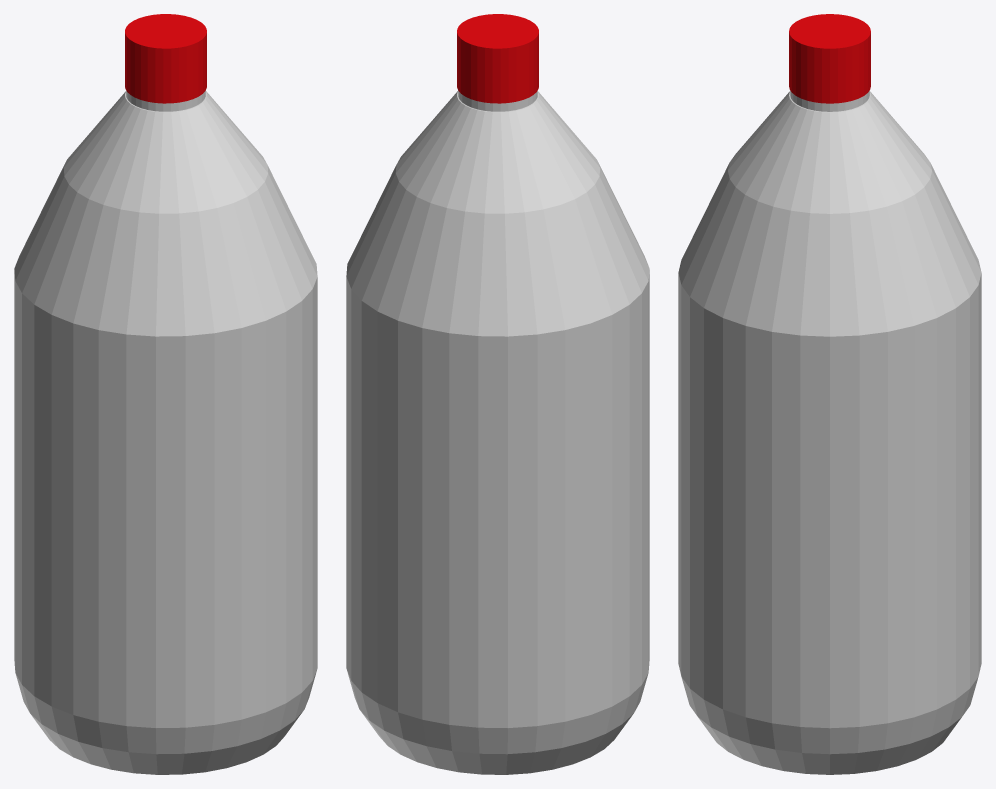
Rendered from Botella.fbx.
3 renders of one model, left to right at view 1: azimuth 30°, elevation 25°; view 2: azimuth 150°, elevation 25°; view 3: azimuth 270°, elevation 25°, orthographic.
Visible parts, largest first — view 1: Cylinder.018; view 2: Cylinder.018; view 3: Cylinder.018.
Boxes of the visible parts, x1=… form: Cylinder.018: x1=14, y1=14, x2=317, y2=774; Cylinder.018: x1=346, y1=14, x2=649, y2=774; Cylinder.018: x1=678, y1=14, x2=981, y2=774.
Bounding box in the file's own units: 15.08 × 37.87 × 15.04.
